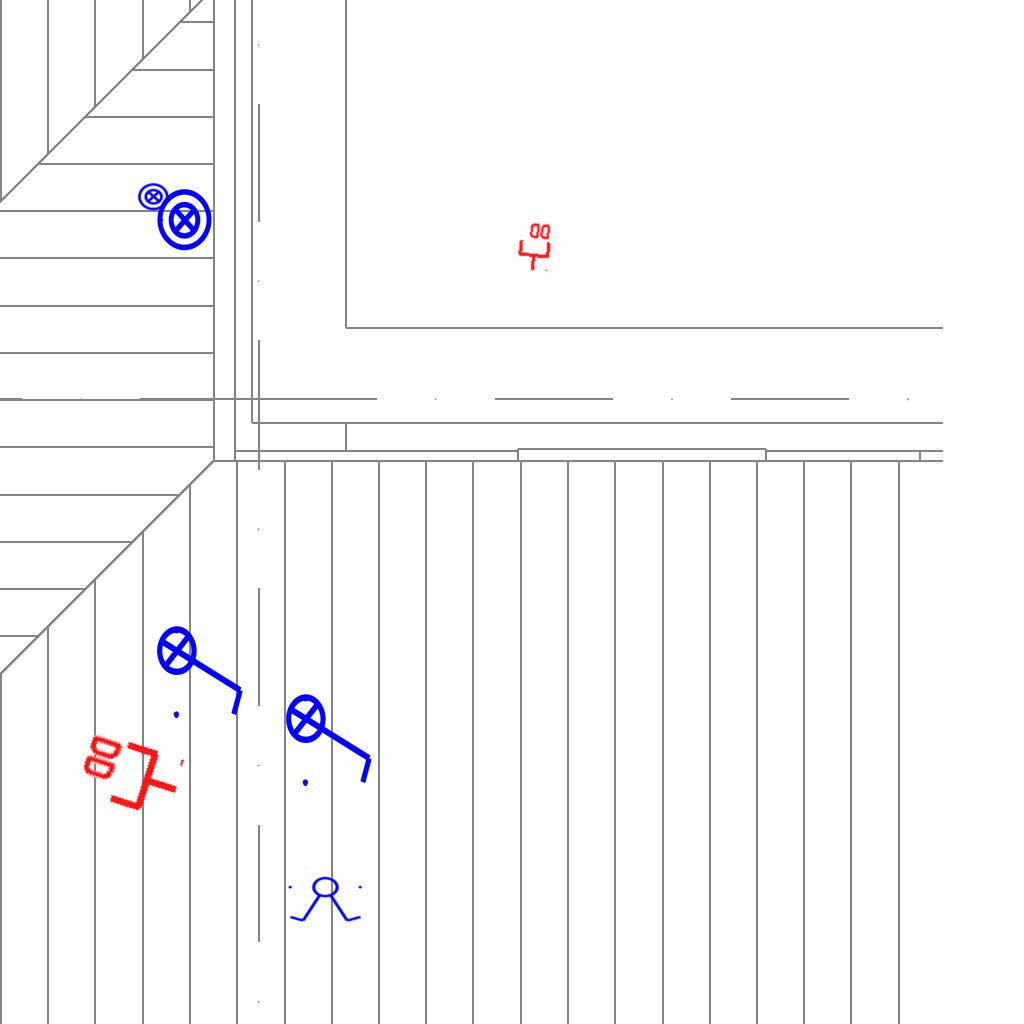Ausschalter_beleuchtet: (155, 612, 251, 724), (284, 680, 380, 792)
Datenanschluss_zweifach: (69, 727, 190, 826), (514, 219, 554, 274)
Serienschalter: (284, 876, 368, 924)
Taster_beleuchtet: (152, 187, 218, 253), (137, 180, 170, 213)
